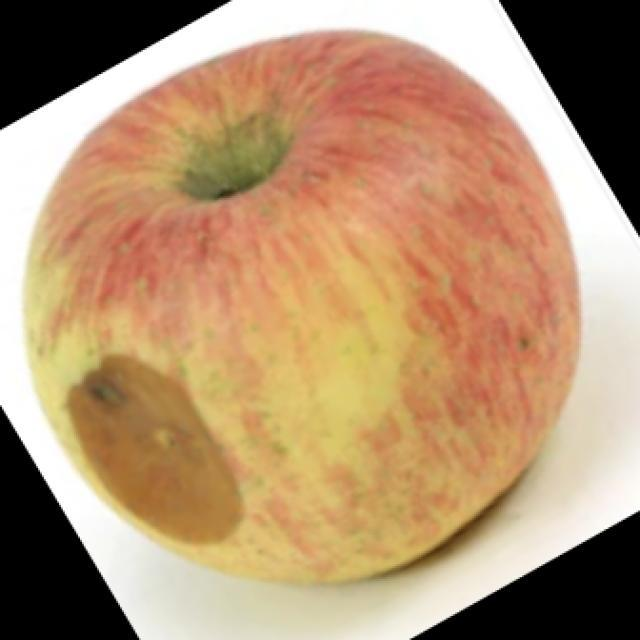Rotten: (16, 38, 562, 555)
